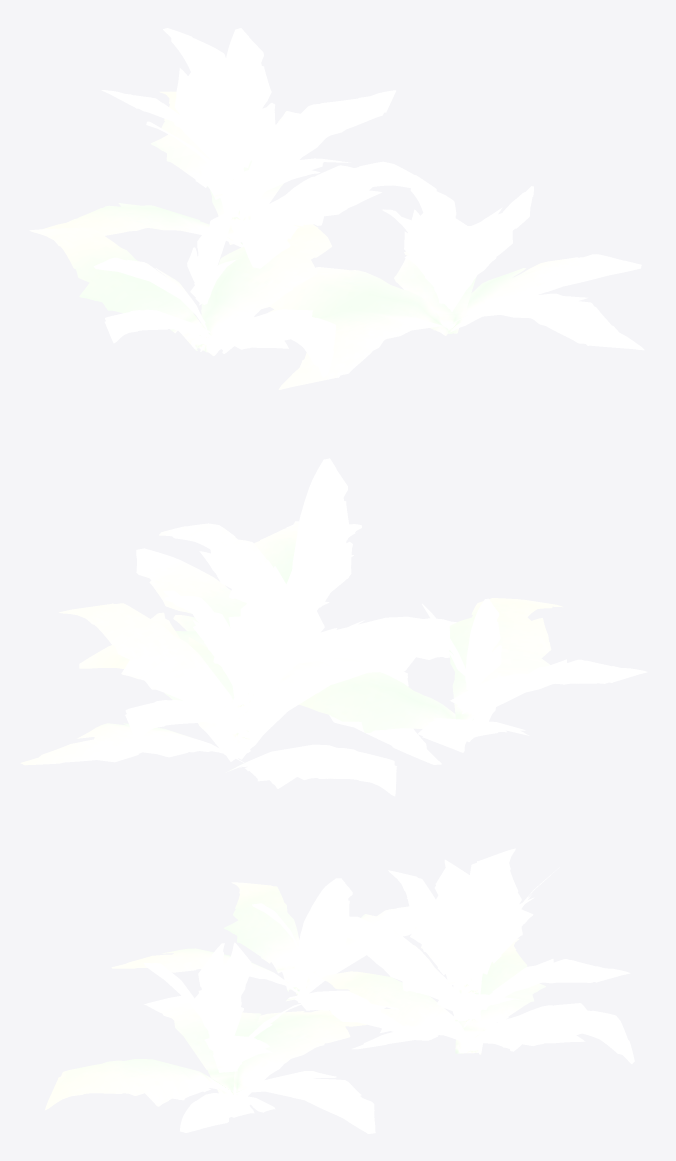
The picture shows the model from 3 angles, top to bottom: view 1: azimuth 30°, elevation 25°; view 2: azimuth 150°, elevation 25°; view 3: azimuth 270°, elevation 25°; orthographic projection. The views are drawn at different scales.
Parts seen in each view (by area): view 1: SM_BM_Fox_Glove_04_LOD0; view 2: SM_BM_Fox_Glove_04_LOD0; view 3: SM_BM_Fox_Glove_04_LOD0.
Boxes of the visible parts, left/top/right/bottom form: SM_BM_Fox_Glove_04_LOD0: left=29, top=28, right=644, bottom=389; SM_BM_Fox_Glove_04_LOD0: left=20, top=458, right=647, bottom=796; SM_BM_Fox_Glove_04_LOD0: left=45, top=848, right=634, bottom=1133.
Size of the model in its own units: 0.6884 by 0.2669 by 0.7598.
Materials: 1 (1 with a texture image).
